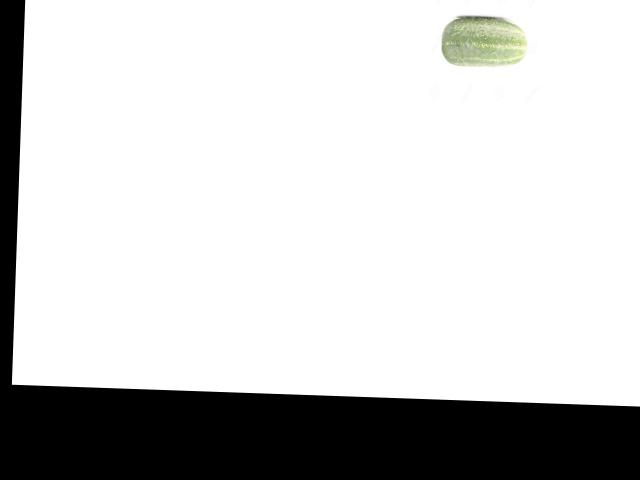cucumber: (439, 15, 527, 67)
